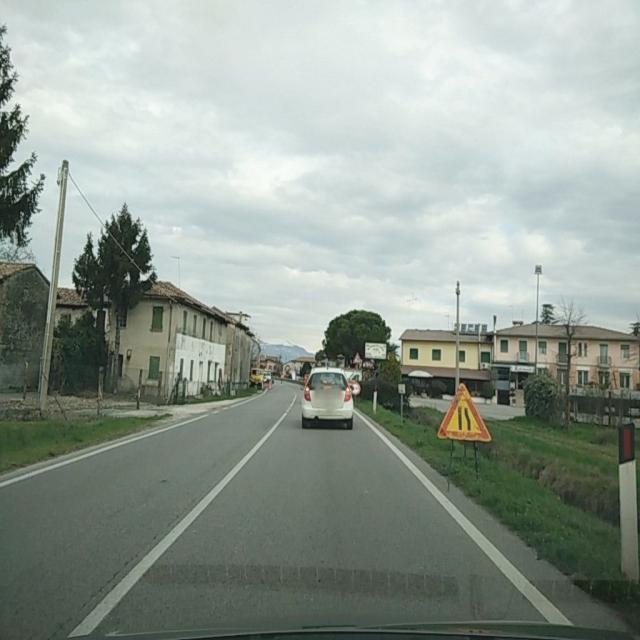car: (300, 368, 354, 430), (348, 381, 361, 397), (262, 370, 273, 383)
